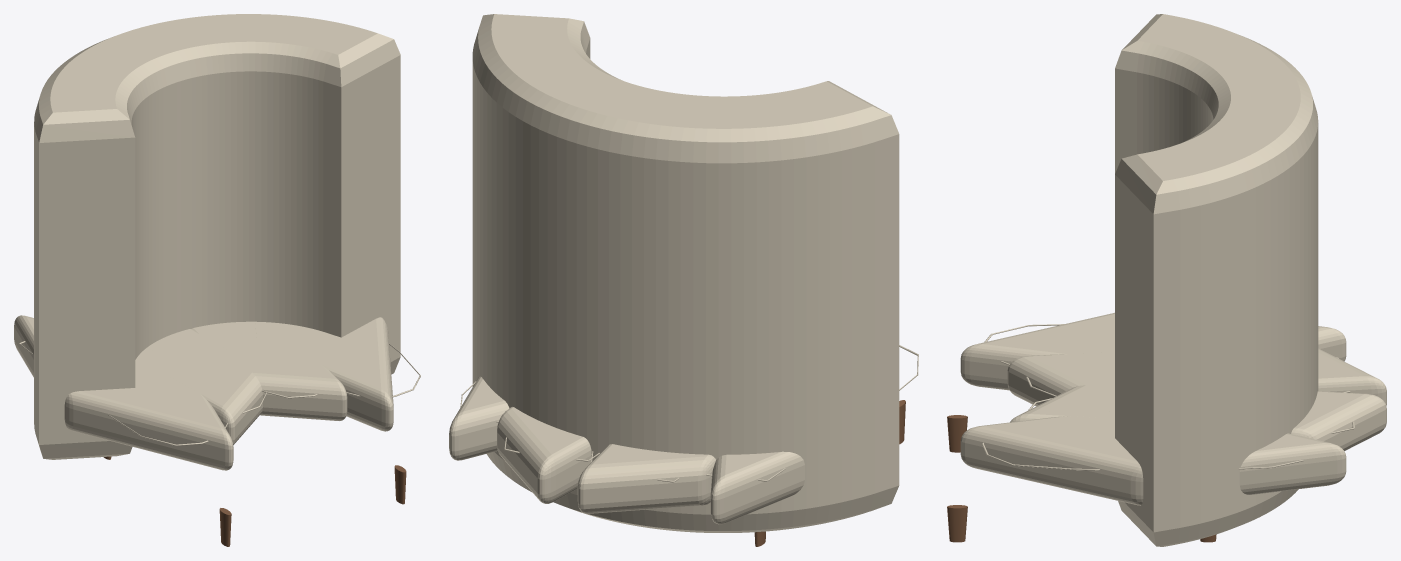
File: studio-sofa-curve.glb
The picture shows the model from 3 angles, left to right: view 1: azimuth 30°, elevation 25°; view 2: azimuth 150°, elevation 25°; view 3: azimuth 270°, elevation 25°; orthographic projection. The views are drawn at different scales.
Parts seen in each view (by area): view 1: part (×2); view 2: part; view 3: part (×2).
Part boxes in pixels (bbox=[...]): part (×2): bbox=[14, 14, 420, 546]; part: bbox=[449, 14, 918, 532]; part (×2): bbox=[947, 14, 1386, 546].
Size of the model in its own units: 1 by 1 by 1.
